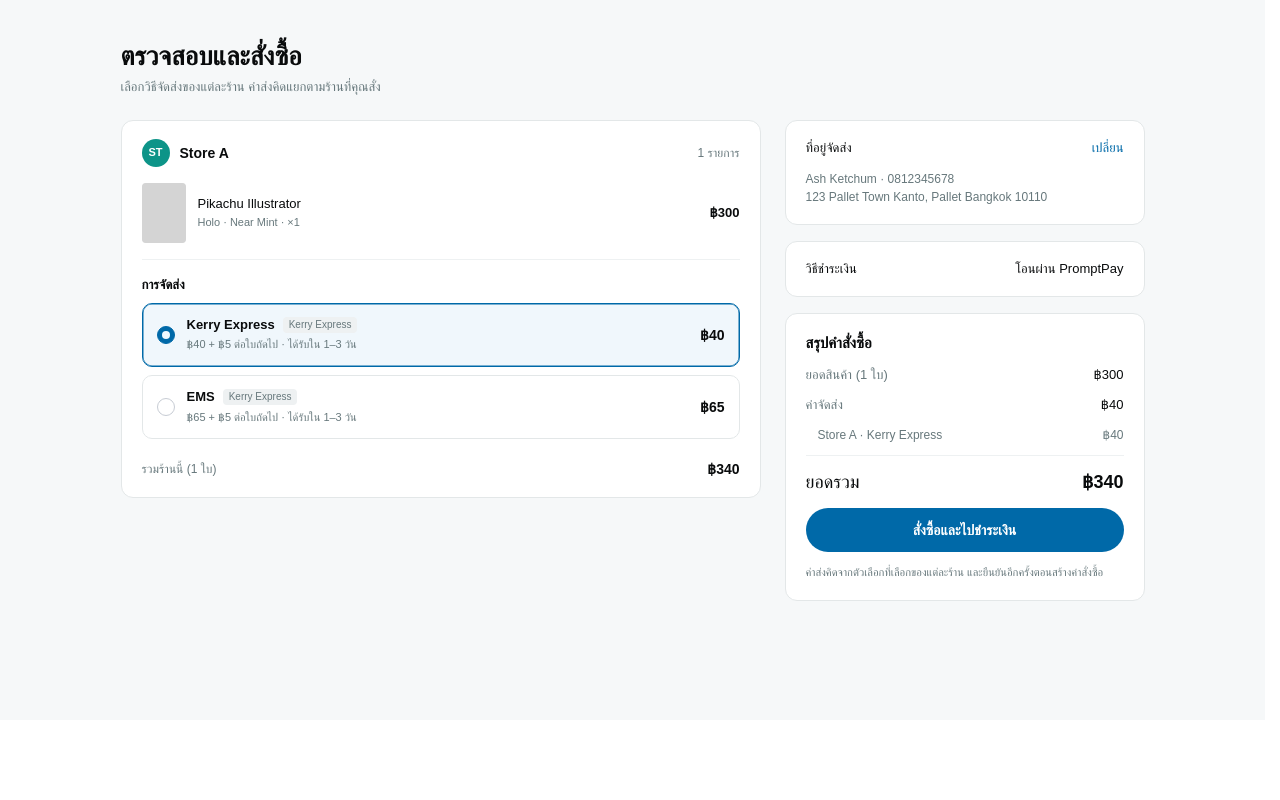
Test: CheckoutPage › opens the shared edit form from the selected address
This screenshot has width=1280, height=800.
Expected: the button "สั่งซื้อและไปชำระเงิน" is enabled, [806,508,1124,552]
Click the button "เปลี่ยน".
click(1108, 148)  # box [1092,139,1124,158]
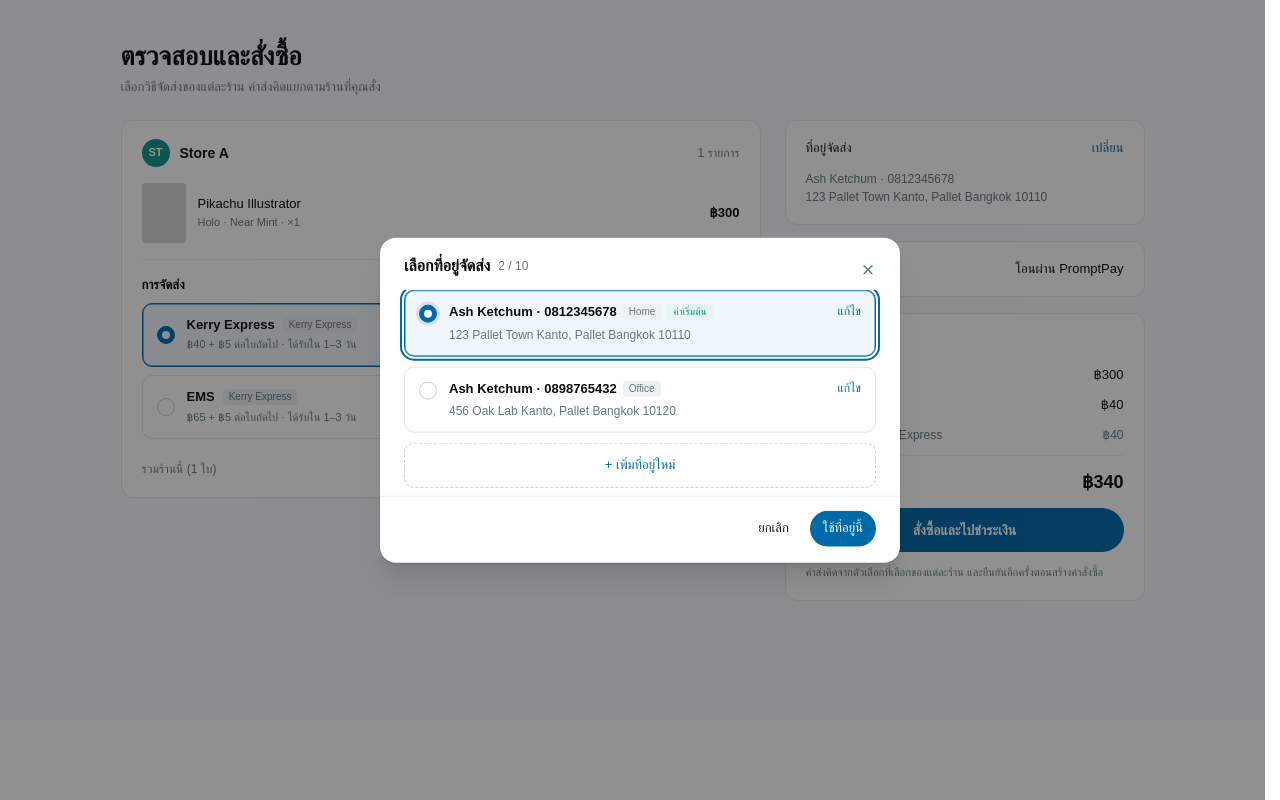
Click the button with aria-label "แก้ไขที่อยู่ Office".
click(849, 387)  # box [838,379,861,395]
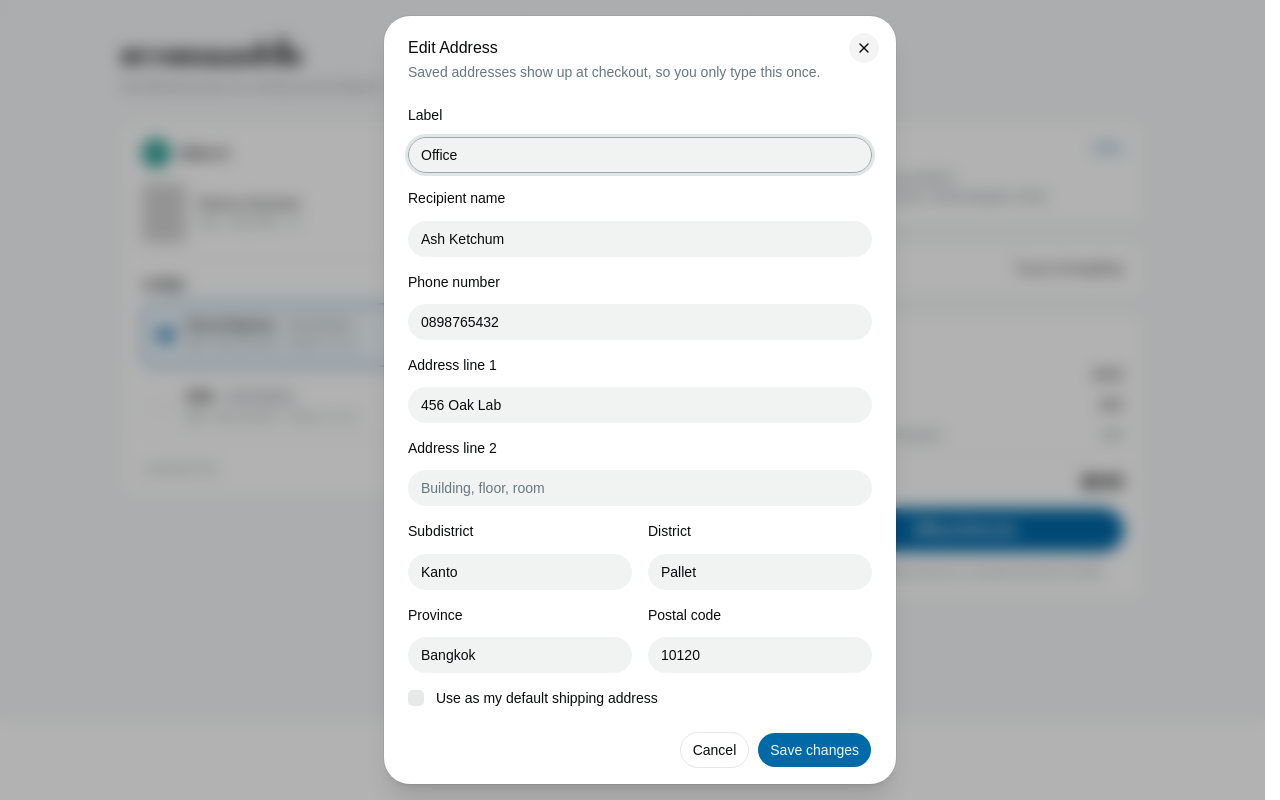
Expected: the dialog "Edit Address" is shown, [384,16,896,784]
Expected: the field labelled "Address line 1" holds "456 Oak Lab", [408,387,872,423]
